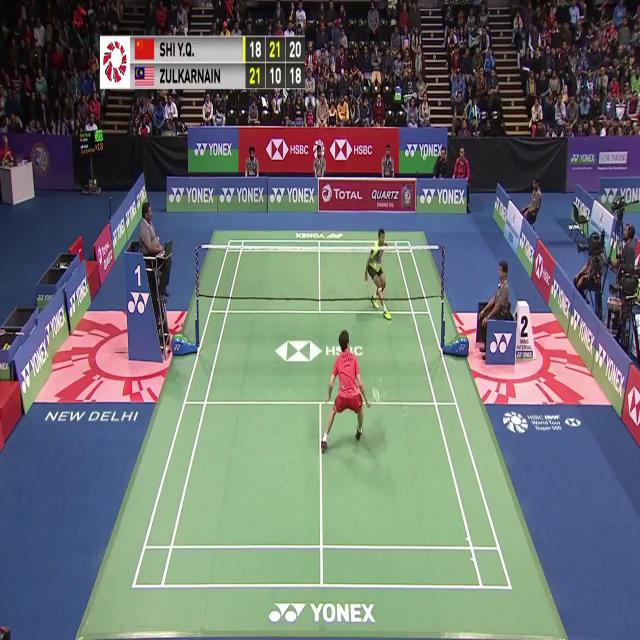Shuttlecock: (421, 153, 428, 165)
